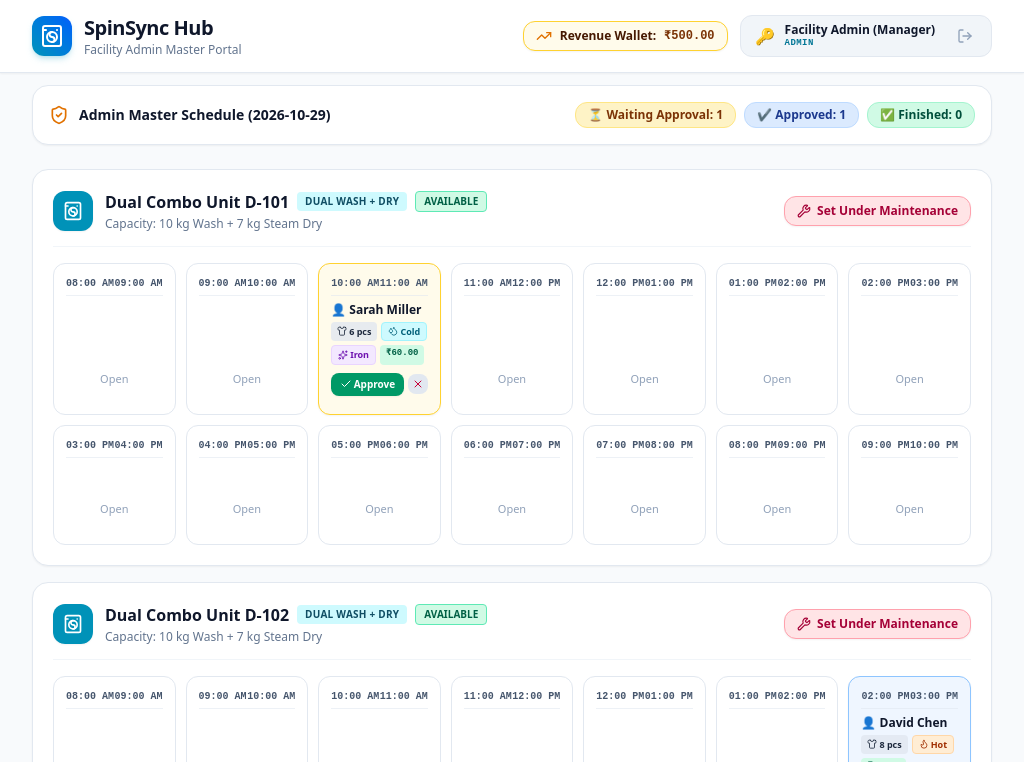
Test case: Module: Booking & Debit Lifecycle (Excluding Login) › debits student wallet and credits admin wallet when Admin approves
This screenshot has width=1024, height=762.
(page scrolled)
Expected: the text "₹500.00" is shown, 664,28 -> 715,44
Note: Find and click Approve on Sarah's pending wash
What coordinates should you click on to do the following:
click the button "Approve"
I would click on:
 (367, 384)
Its box is 331,372 -> 404,396.
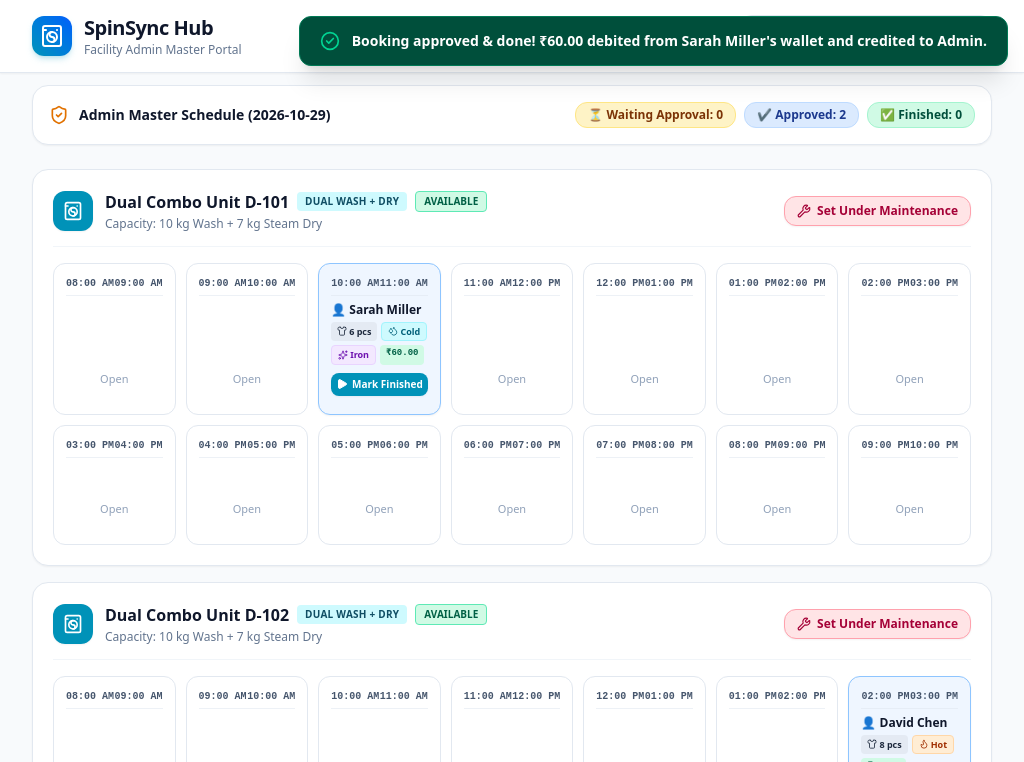
Result: the text "₹560.00" is shown at 664,28 -> 715,44
